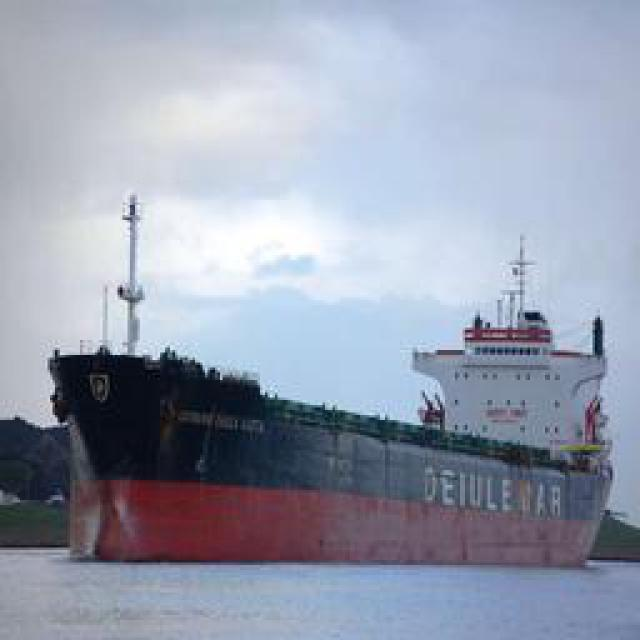Ship: (39, 231, 614, 570)
